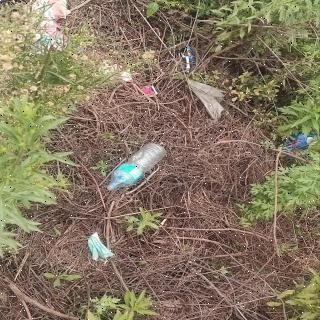Plastic-bottle: (103, 141, 171, 195)
